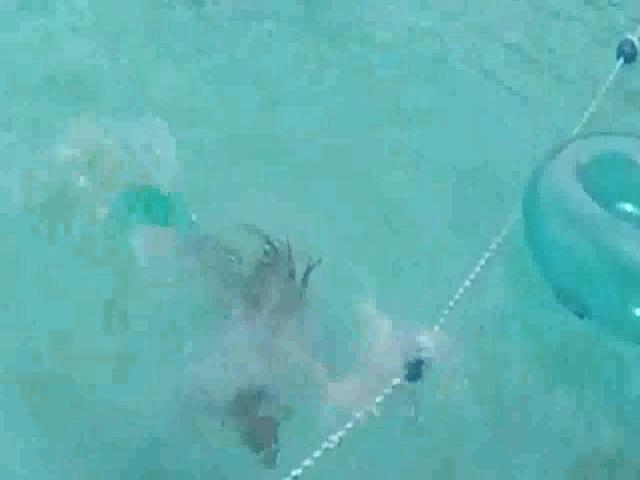drowning: (167, 212, 326, 471)
